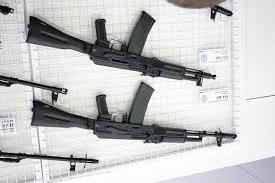larga: (25, 10, 217, 88), (30, 81, 238, 148)
